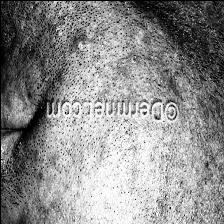Toxin: (103, 46, 176, 98), (97, 124, 173, 172), (74, 33, 88, 51)
